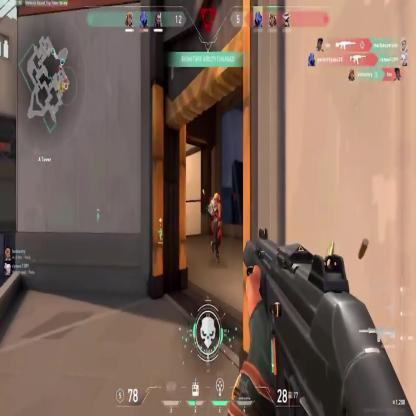enemy: (208, 190, 222, 262)
enemy_head: (214, 192, 221, 205)
